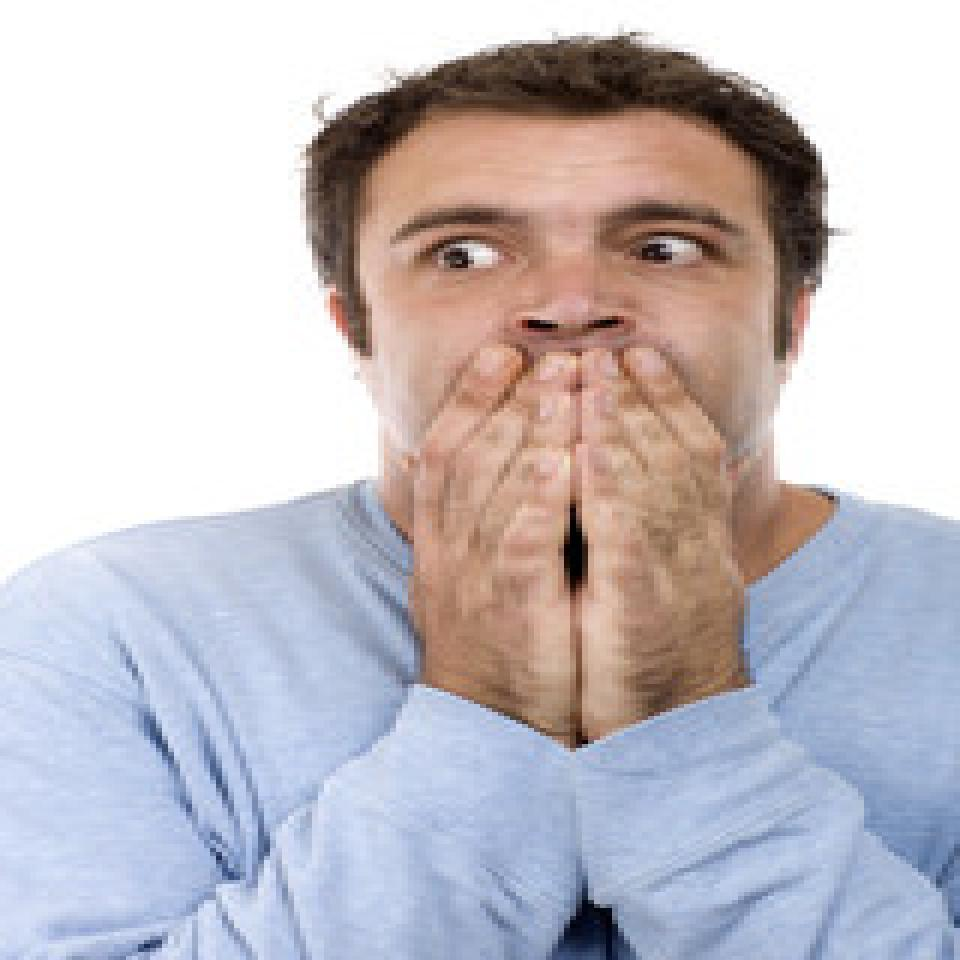Scared: (362, 129, 783, 644)
